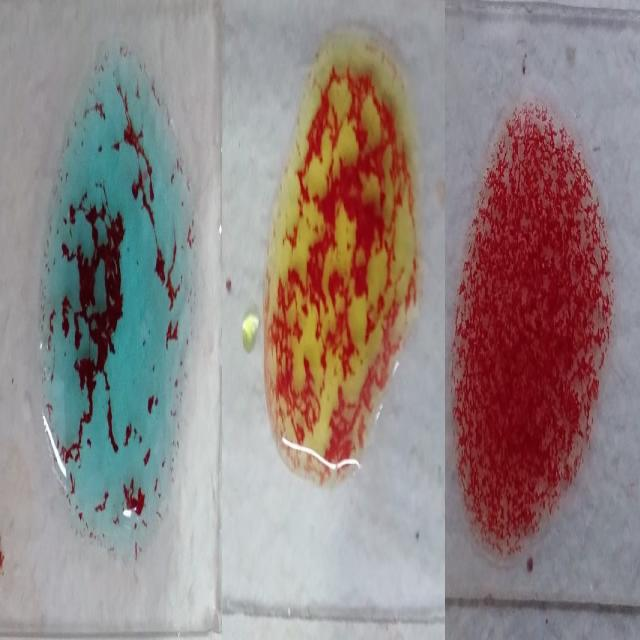A: (34, 49, 189, 565)
B: (264, 34, 414, 487)
D: (456, 98, 611, 566)
